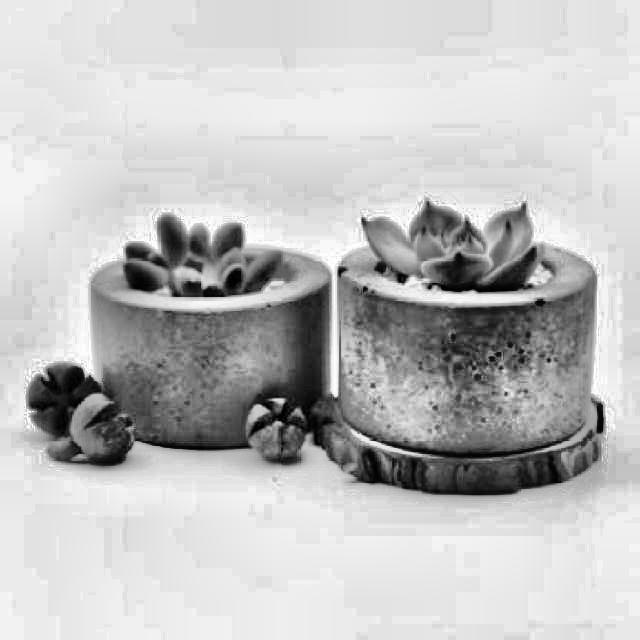plants: (331, 196, 591, 449), (62, 208, 328, 446)
